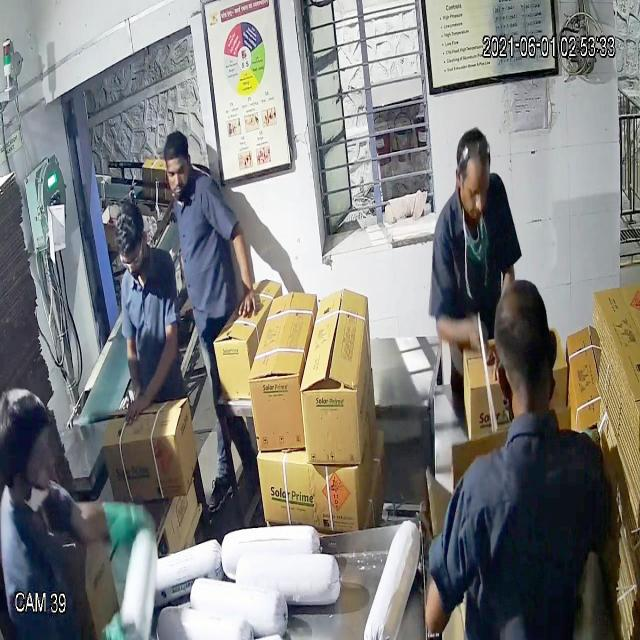glasses: (114, 242, 155, 280)
no-glass: (450, 163, 496, 210)
